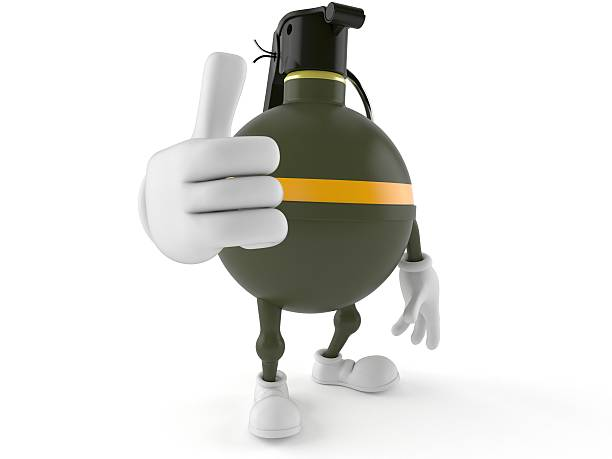e1: (219, 1, 415, 314)
